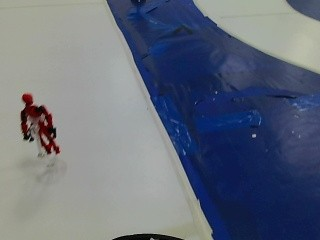pedestrian: (17, 89, 61, 156)
